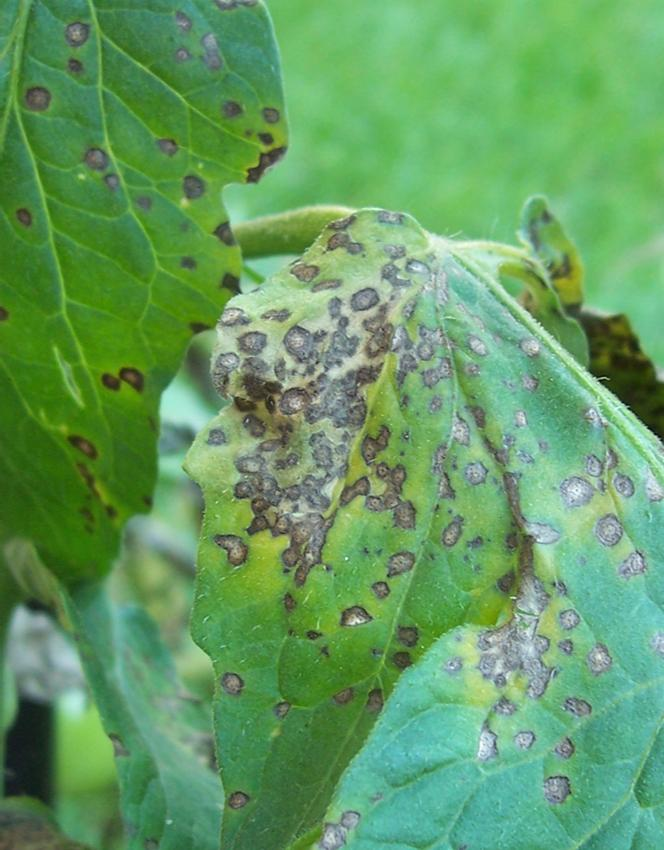Tomato Septoria leaf spot: (211, 201, 664, 850), (0, 0, 318, 611)
